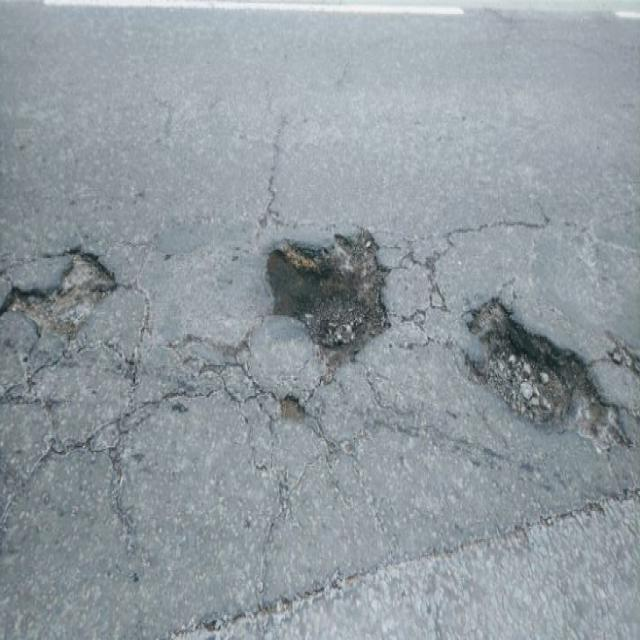Pothole: (455, 291, 627, 452), (267, 211, 396, 368), (2, 240, 122, 344)
